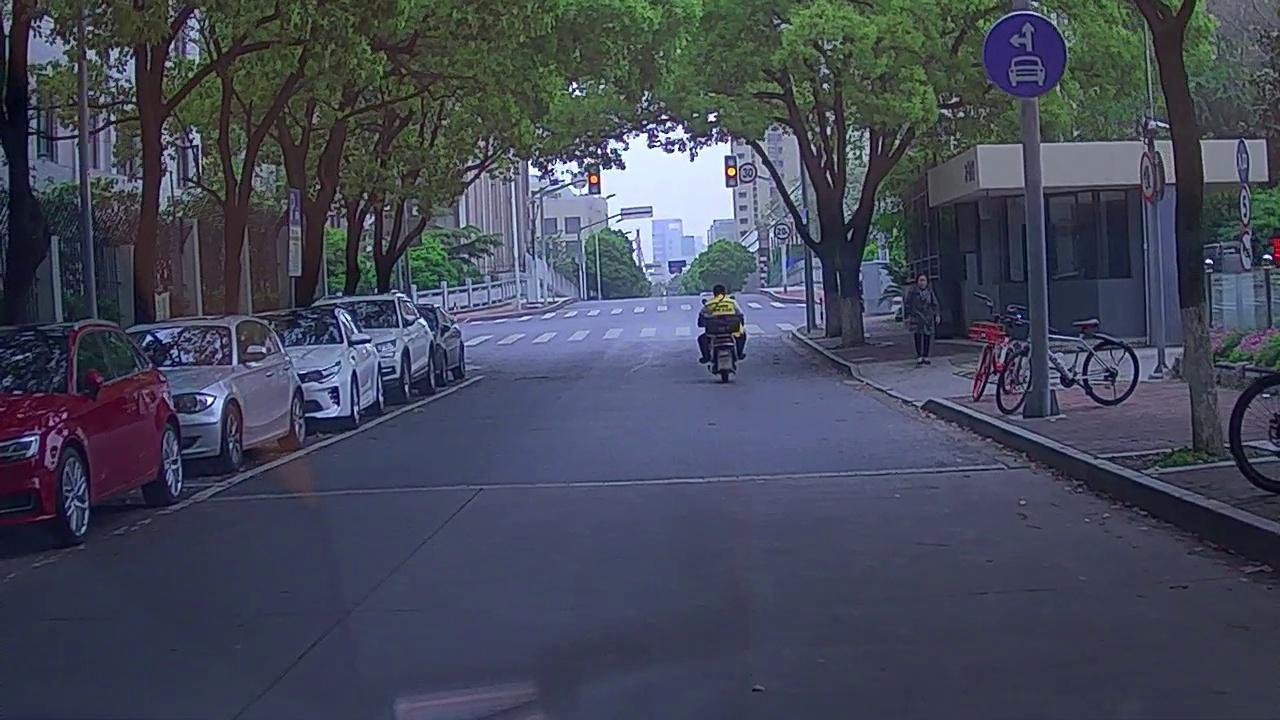traffic_light: (588, 162, 600, 196), (726, 155, 737, 187)
